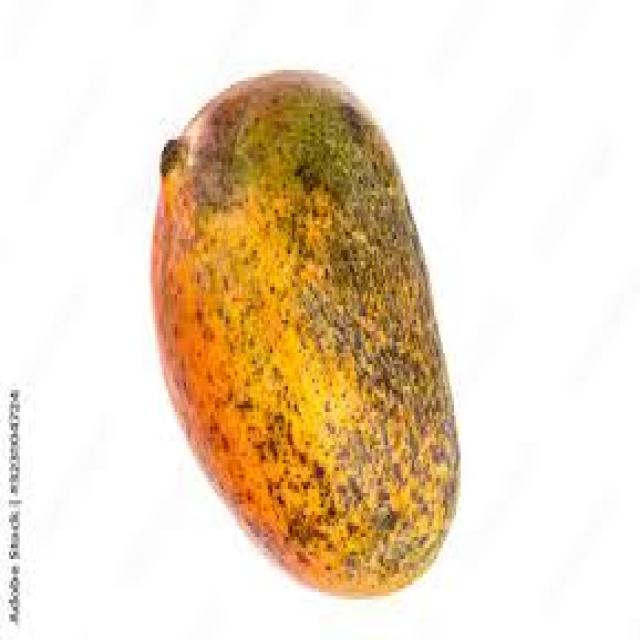Mango: (149, 78, 465, 605)
